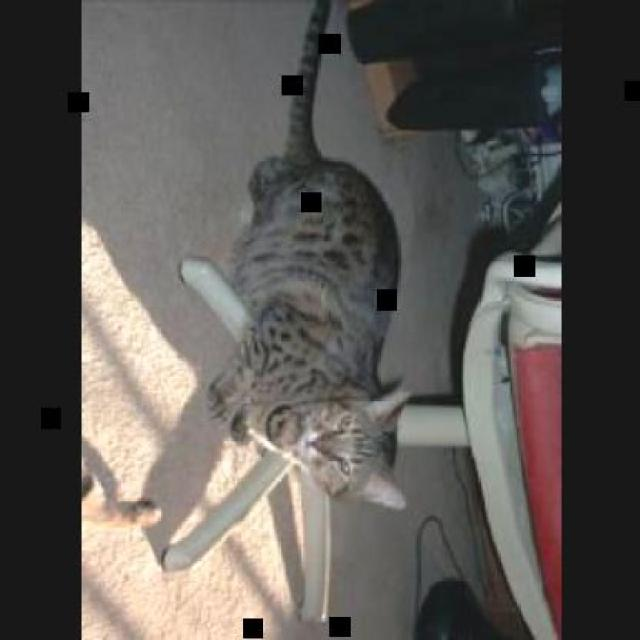unauthorized: (189, 0, 412, 512)
